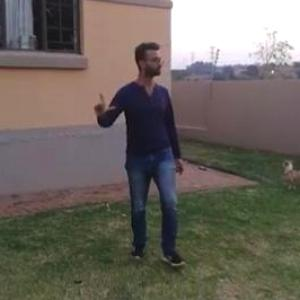land_hand: (88, 88, 117, 123)
